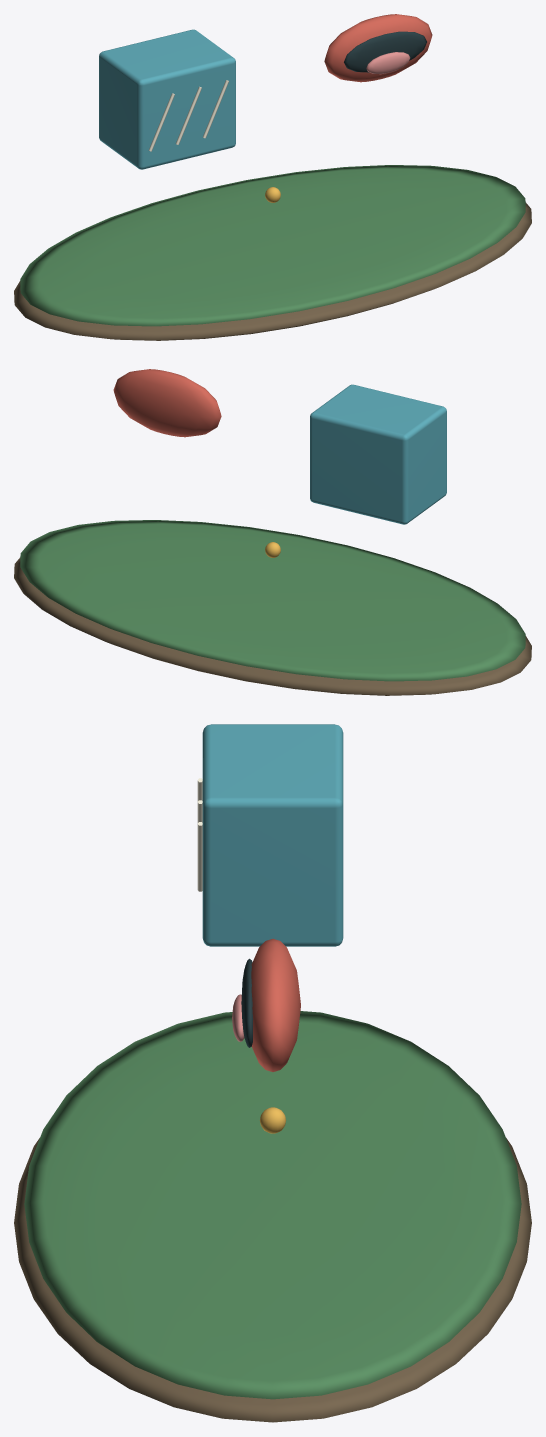
File: complete-first-one-occasion.glb
3 views of the same model, one above another, from view 1: azimuth 30°, elevation 25°; view 2: azimuth 150°, elevation 25°; view 3: azimuth 270°, elevation 25° (orthographic). The views are drawn at different scales.
Parts seen in each view (by area): view 1: complete-first-one-occasion_surface_01, complete-first-one-occasion_surface_02, complete-first-one-occasion_surface_00, complete-first-one-occasion_surface_04, complete-first-one-occasion_surface_05, complete-first-one-occasion_surface_03, complete-first-one-occasion_surface_06; view 2: complete-first-one-occasion_surface_01, complete-first-one-occasion_surface_02, complete-first-one-occasion_surface_00, complete-first-one-occasion_surface_04; view 3: complete-first-one-occasion_surface_01, complete-first-one-occasion_surface_02, complete-first-one-occasion_surface_00, complete-first-one-occasion_surface_04, complete-first-one-occasion_surface_05.
Part boxes in pixels (box(x1,y1,x2,y2)): complete-first-one-occasion_surface_01: box(20, 165, 525, 326); complete-first-one-occasion_surface_02: box(99, 29, 235, 169); complete-first-one-occasion_surface_00: box(14, 202, 531, 340); complete-first-one-occasion_surface_04: box(324, 14, 432, 82); complete-first-one-occasion_surface_05: box(344, 31, 426, 72); complete-first-one-occasion_surface_03: box(148, 80, 228, 151); complete-first-one-occasion_surface_06: box(366, 52, 410, 74); complete-first-one-occasion_surface_01: box(20, 520, 525, 681); complete-first-one-occasion_surface_02: box(310, 384, 446, 524); complete-first-one-occasion_surface_00: box(14, 557, 531, 695); complete-first-one-occasion_surface_04: box(113, 369, 221, 437); complete-first-one-occasion_surface_01: box(24, 1011, 521, 1399); complete-first-one-occasion_surface_02: box(202, 724, 343, 946); complete-first-one-occasion_surface_00: box(14, 1138, 531, 1422); complete-first-one-occasion_surface_04: box(251, 938, 300, 1071); complete-first-one-occasion_surface_05: box(241, 958, 253, 1047).
Bounding box in the file's own units: 4.56 × 2.14 × 2.5.
